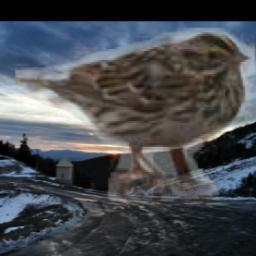Sparrow: (14, 28, 254, 201)
